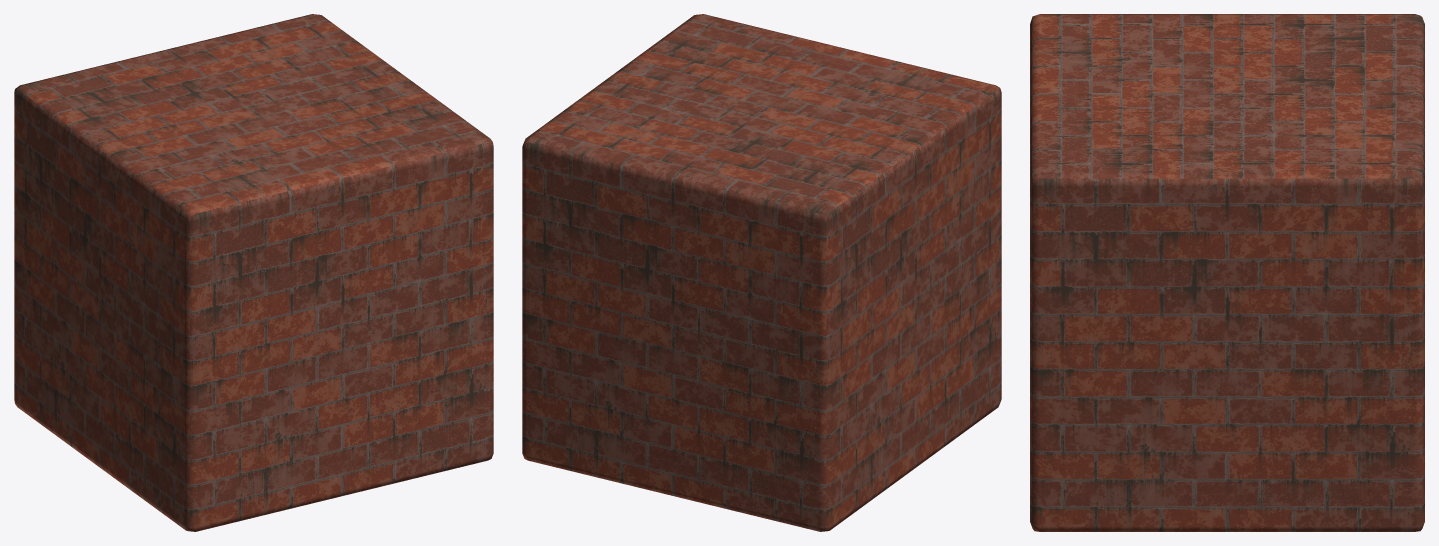
File: bricks.glb
3 renders of one model, left to right at view 1: azimuth 30°, elevation 25°; view 2: azimuth 150°, elevation 25°; view 3: azimuth 270°, elevation 25°, orthographic. The views are drawn at different scales.
Visible parts, largest first — view 1: material_sample; view 2: material_sample; view 3: material_sample.
Boxes of the visible parts, x1=… form: material_sample: x1=14, y1=14, x2=493, y2=531; material_sample: x1=522, y1=14, x2=1001, y2=531; material_sample: x1=1030, y1=14, x2=1424, y2=531.
Bounding box in the file's own units: 100 × 100 × 100.
Materials: 1 (1 with a texture image).
